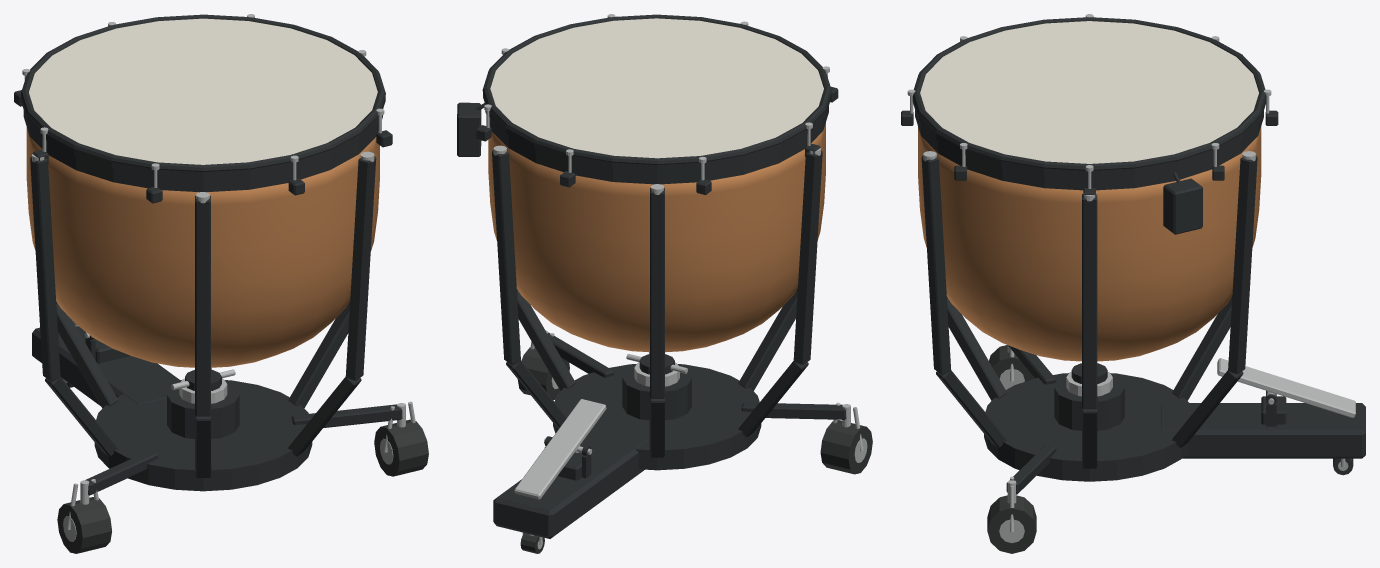
Rendered from timpani_LOD2.glb.
3 renders of one model, left to right at view 1: azimuth 30°, elevation 25°; view 2: azimuth 150°, elevation 25°; view 3: azimuth 270°, elevation 25°, orthographic. The views are drawn at different scales.
Parts seen in each view (by area): view 1: Kettle shell with underside aperture, Taut drumhead, Lower radial platform, Counterhoop, Upper support band, Frame upper upright 3, Frame upper upright 5, Pedal pedestal, Frame upper upright 4, Counter hoop wall, Central mechanism housing, Wheel tire 0 (+8 smaller); view 2: Kettle shell with underside aperture, Taut drumhead, Lower radial platform, Pedal pedestal, Counterhoop, Upper support band, Frame upper upright 1, Frame upper upright 3, Pedal plate, Frame upper upright 2, Counter hoop wall, Central mechanism housing (+10 smaller); view 3: Kettle shell with underside aperture, Taut drumhead, Lower radial platform, Pedal pedestal, Counterhoop, Upper support band, Frame upper upright 1, Frame upper upright 5, Frame upper upright 0, Counter hoop wall, Pedal plate, Central mechanism housing (+10 smaller).
Boxes of the visible parts, x1,y1,x2,y2 form: Kettle shell with underside aperture: (26, 127, 379, 367); Taut drumhead: (29, 18, 377, 164); Lower radial platform: (94, 380, 312, 491); Counterhoop: (20, 14, 385, 171); Upper support band: (23, 110, 382, 192); Frame upper upright 3: (30, 156, 60, 381); Frame upper upright 5: (345, 156, 376, 380); Pedal pedestal: (32, 326, 180, 405); Frame upper upright 4: (195, 196, 210, 416); Counter hoop wall: (21, 96, 385, 178); Central mechanism housing: (167, 383, 239, 439); Wheel tire 0: (57, 497, 111, 553); Kettle shell with underside aperture: (488, 123, 825, 352); Taut drumhead: (490, 18, 823, 158); Lower radial platform: (553, 364, 761, 470); Pedal pedestal: (493, 425, 648, 538); Counterhoop: (482, 14, 831, 164); Upper support band: (485, 106, 828, 184); Frame upper upright 1: (492, 150, 520, 364); Frame upper upright 3: (793, 150, 822, 364); Pedal plate: (514, 399, 606, 499); Frame upper upright 2: (650, 188, 664, 398); Counter hoop wall: (483, 92, 831, 170); Central mechanism housing: (622, 367, 691, 420); Kettle shell with underside aperture: (918, 126, 1261, 361); Taut drumhead: (920, 21, 1258, 163); Lower radial platform: (984, 373, 1188, 481); Pedal pedestal: (1161, 403, 1365, 458); Counterhoop: (912, 17, 1266, 170); Upper support band: (915, 110, 1263, 190); Frame upper upright 1: (1228, 155, 1257, 374); Frame upper upright 5: (921, 156, 950, 374); Frame upper upright 0: (1082, 194, 1097, 409); Counter hoop wall: (912, 97, 1266, 176); Pedal plate: (1217, 358, 1355, 417); Central mechanism housing: (1054, 377, 1124, 430).
Bounding box in the file's own units: 0.8 × 0.85 × 0.94.
